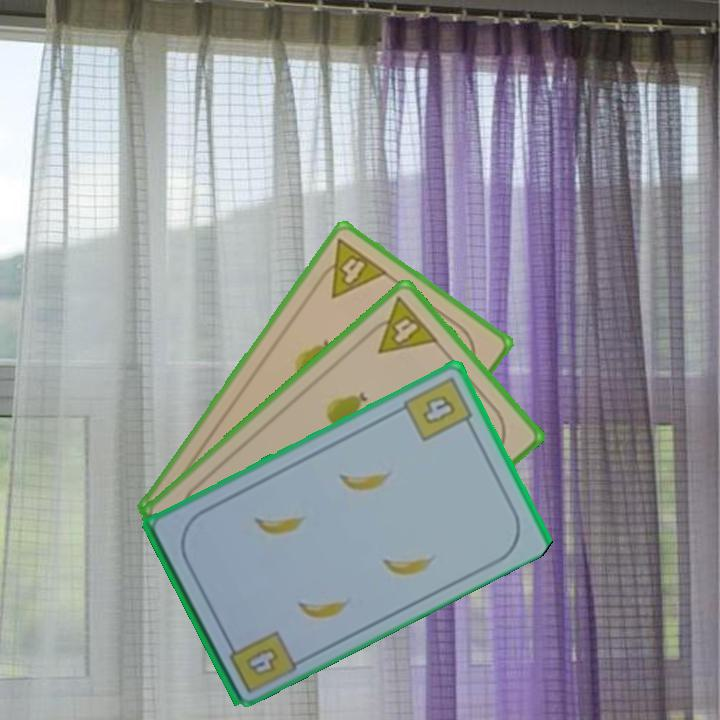4b: (399, 373, 477, 444), (246, 646, 278, 675)
4p: (311, 234, 391, 301), (361, 293, 441, 357)
